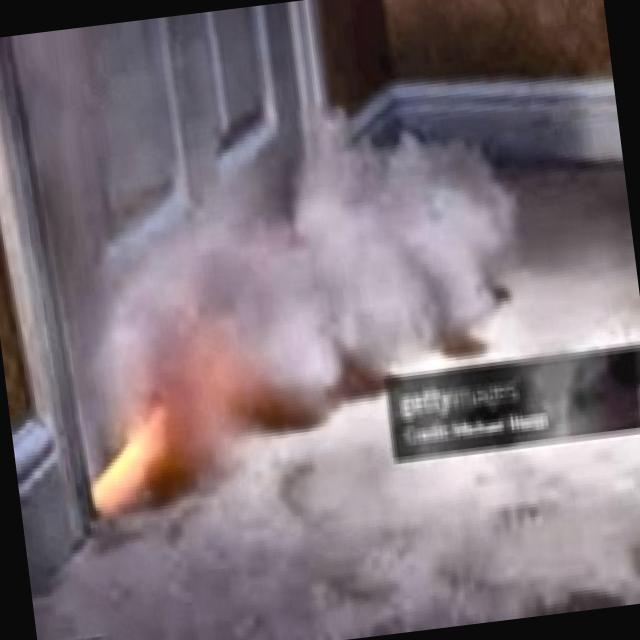fire: (67, 397, 243, 532)
smoke: (99, 98, 534, 396)
